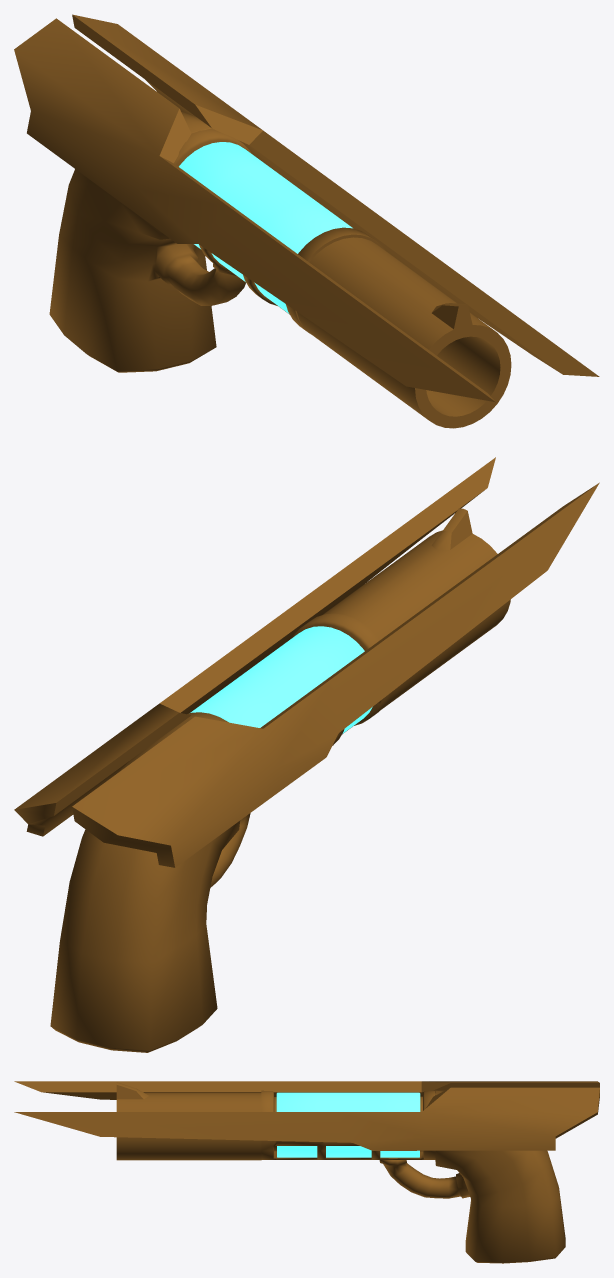
File: mdl_gun.fbx
3 renders of one model, top to bottom at view 1: azimuth 30°, elevation 25°; view 2: azimuth 150°, elevation 25°; view 3: azimuth 270°, elevation 25°, orthographic. The views are drawn at different scales.
Visible parts, largest first — view 1: mesh_gun; view 2: mesh_gun; view 3: mesh_gun.
Boxes of the visible parts, x1,y1,x2,y2 form: mesh_gun: [14, 14, 599, 428]; mesh_gun: [14, 457, 599, 1052]; mesh_gun: [14, 1081, 599, 1263].
Size of the model in its own units: 0.1009 by 0.1782 by 0.5681.
